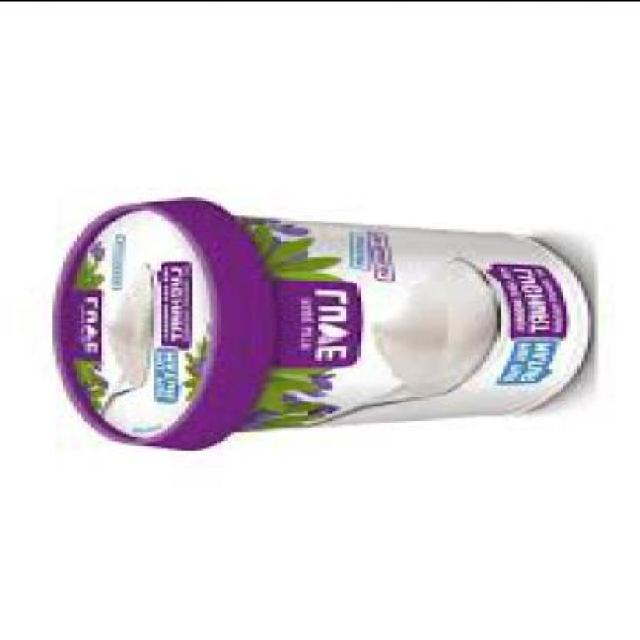PLASTIC: (49, 195, 591, 448), (49, 195, 276, 448)
